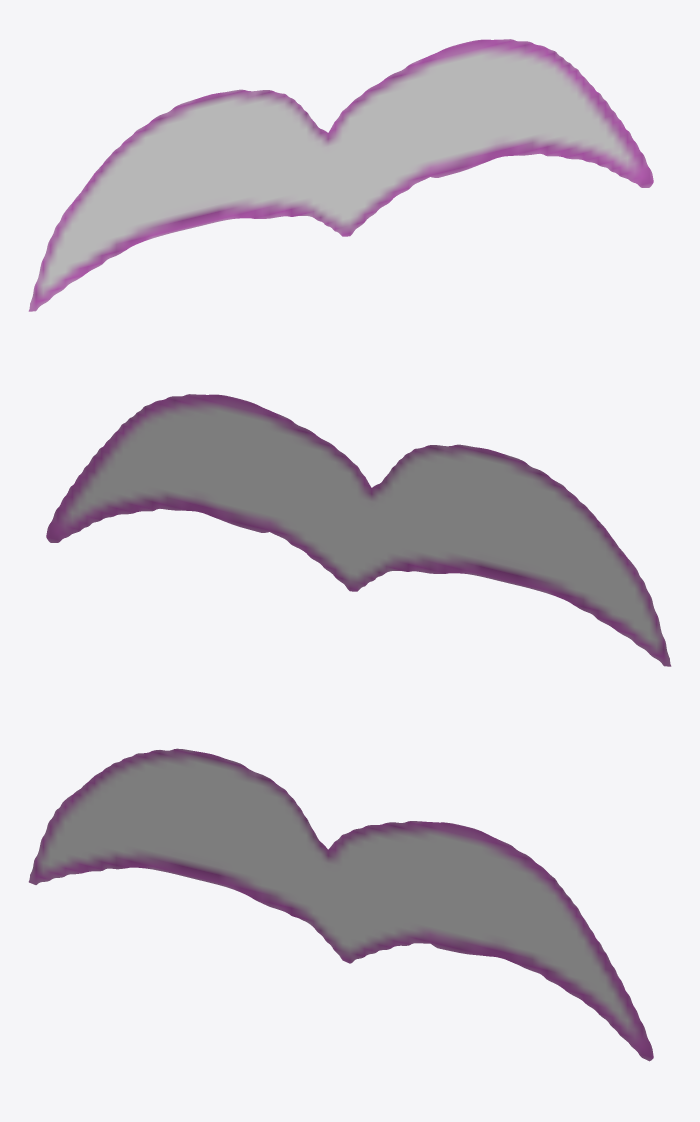
Rendered from giftgoods091.fbx.
The picture shows the model from 3 angles, top to bottom: view 1: azimuth 30°, elevation 25°; view 2: azimuth 150°, elevation 25°; view 3: azimuth 330°, elevation 25°; orthographic projection.
Parts seen in each view (by area): view 1: giftgoods091; view 2: giftgoods091; view 3: giftgoods091.
Boxes of the visible parts, <box> form: giftgoods091: <box>28,39,653,311</box>; giftgoods091: <box>46,394,671,666</box>; giftgoods091: <box>28,748,653,1061</box>.
Size of the model in its own units: 0.6911 by 0.2509 by 0.
